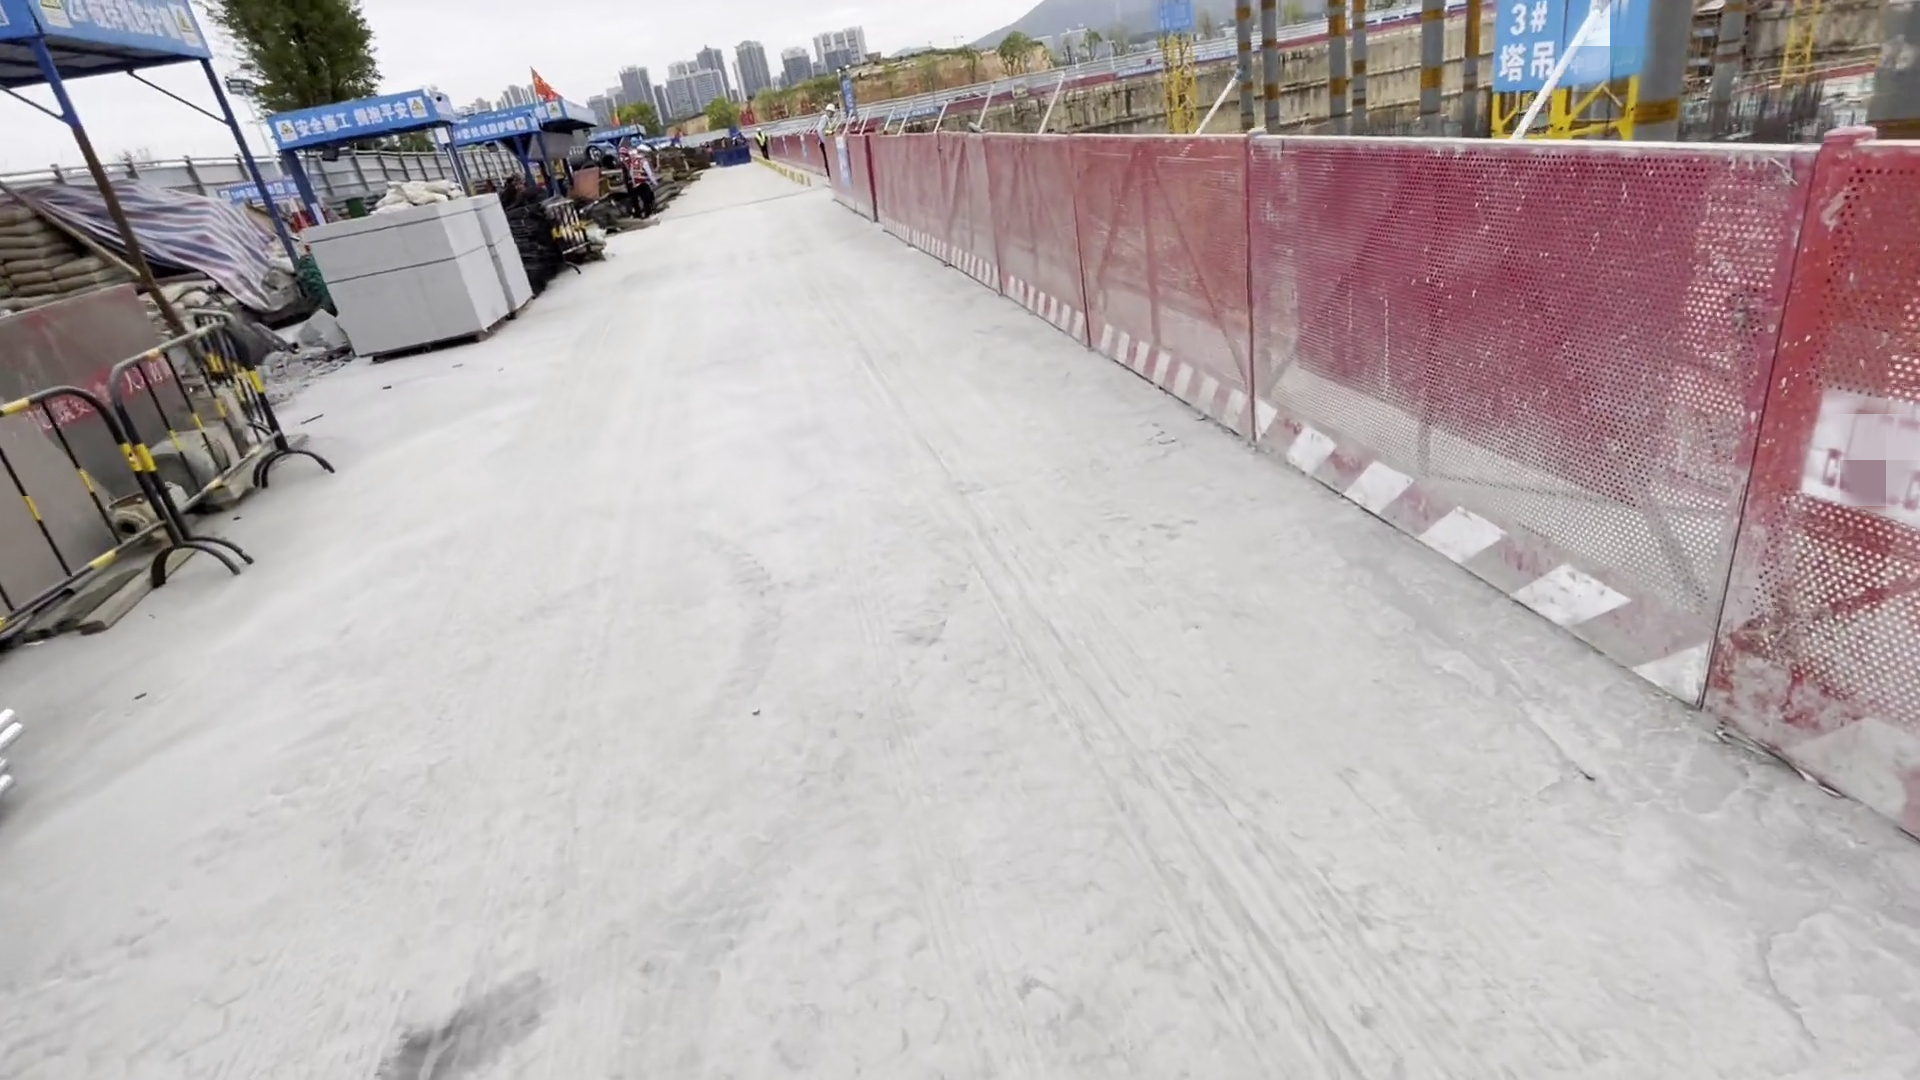brick: (295, 197, 520, 369)
fence: (864, 111, 1920, 812)
helmet: (636, 145, 650, 152), (823, 104, 834, 111)
person: (816, 103, 841, 185), (628, 151, 654, 213), (617, 145, 634, 217), (754, 127, 769, 164)
slogan: (278, 97, 417, 135)
vest: (630, 159, 645, 182), (754, 133, 763, 147)
